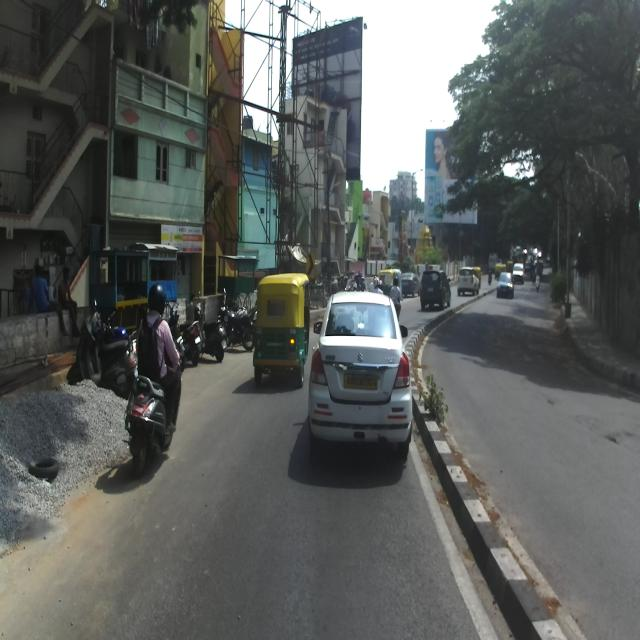auto ahead at: (248, 268, 311, 396)
car ahead at: (312, 285, 420, 467)
motorcycle ahead at: (122, 366, 188, 466)
